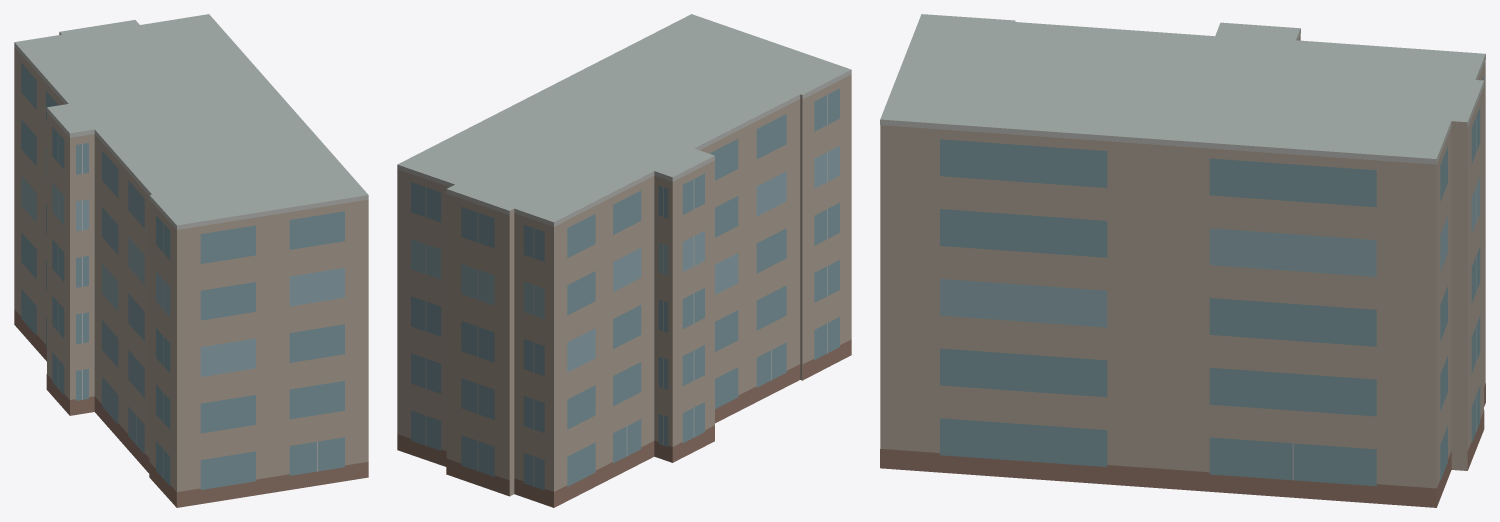
Rendered from survey-upis-32751240.glb.
The picture shows the model from 3 angles, left to right: view 1: azimuth 30°, elevation 25°; view 2: azimuth 150°, elevation 25°; view 3: azimuth 270°, elevation 25°; orthographic projection. The views are drawn at different scales.
Visible parts, largest first — view 1: survey-upis-32751240.tmp; view 2: survey-upis-32751240.tmp; view 3: survey-upis-32751240.tmp.
Part boxes in pixels (left/top/right/bottom): survey-upis-32751240.tmp: left=14, top=14, right=368, bottom=507; survey-upis-32751240.tmp: left=397, top=14, right=851, bottom=507; survey-upis-32751240.tmp: left=880, top=14, right=1485, bottom=507.
Bounding box in the file's own units: 13.62 × 15.25 × 24.01.
